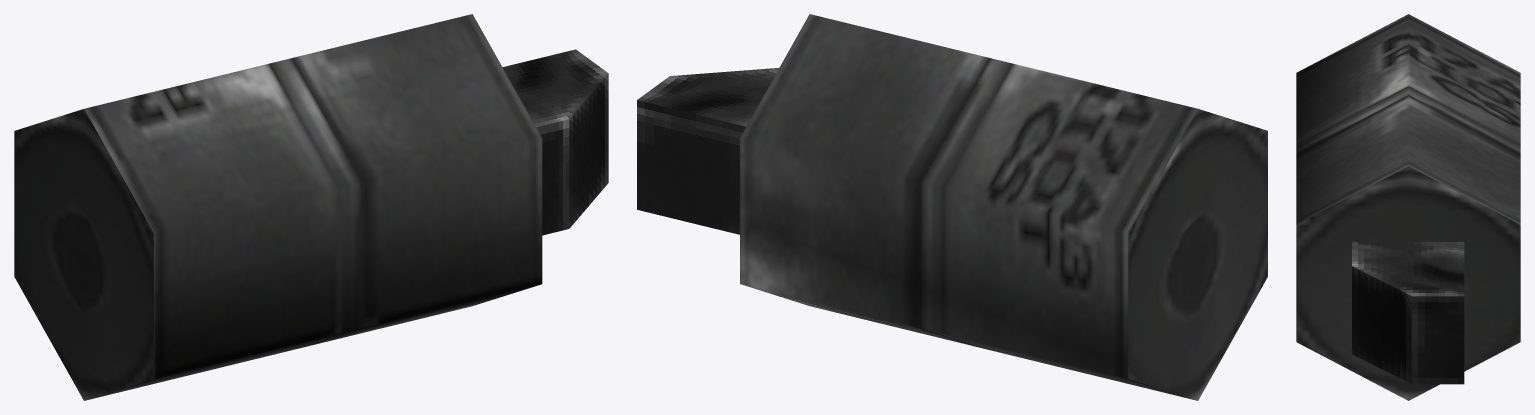
Rendered from flashbang.glb.
The picture shows the model from 3 angles, left to right: view 1: azimuth 30°, elevation 25°; view 2: azimuth 150°, elevation 25°; view 3: azimuth 270°, elevation 25°; orthographic projection. The views are drawn at different scales.
Parts seen in each view (by area): view 1: attachment_0, attachment_1; view 2: attachment_0, attachment_1; view 3: attachment_0, attachment_1.
Boxes of the visible parts, box(x1,y1,x2,y2) form: attachment_0: box(14, 14, 542, 400); attachment_1: box(502, 49, 608, 235); attachment_0: box(740, 14, 1267, 400); attachment_1: box(637, 68, 778, 234); attachment_0: box(1296, 14, 1520, 400); attachment_1: box(1352, 242, 1464, 384).
Bounding box in the file's own units: 17.63 × 9.35 × 8.09.
2 materials, 2 textured.
